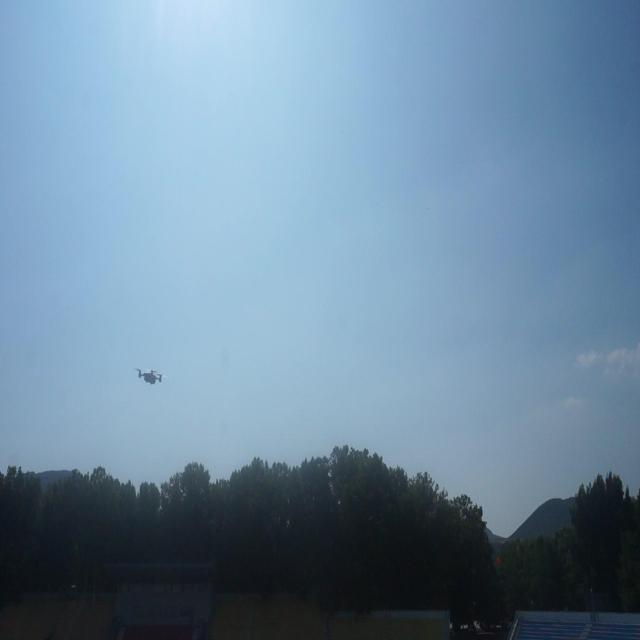drone: (134, 364, 165, 392)
